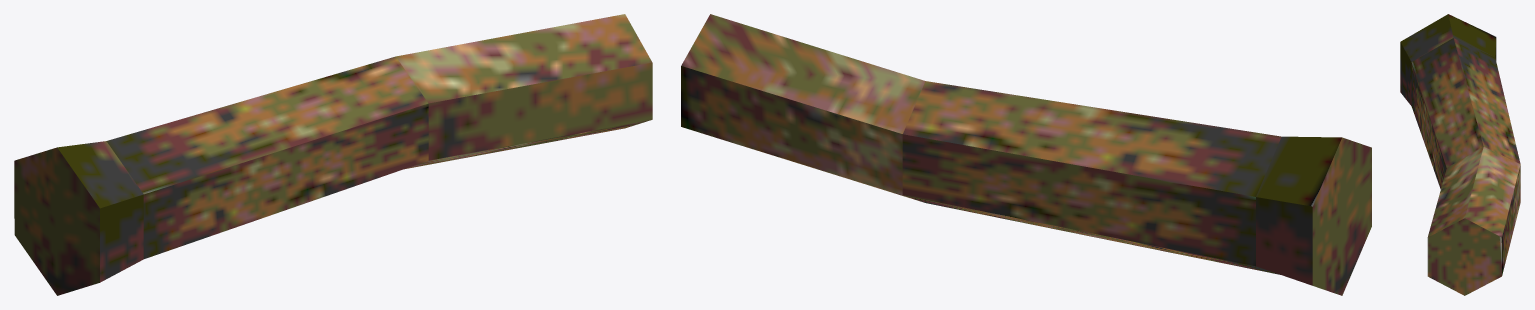
File: Log_1.fbx
3 views of the same model, side by side, from view 1: azimuth 30°, elevation 25°; view 2: azimuth 150°, elevation 25°; view 3: azimuth 270°, elevation 25° (orthographic). The views are drawn at different scales.
Parts seen in each view (by area): view 1: Log; view 2: Log; view 3: Log.
Part boxes in pixels (x1,y1,x2,y2): Log: (14, 14, 652, 295); Log: (681, 14, 1371, 295); Log: (1400, 14, 1520, 295).
Size of the model in its own units: 76.83 by 18.56 by 20.01.
Materials: 1 (1 with a texture image).
